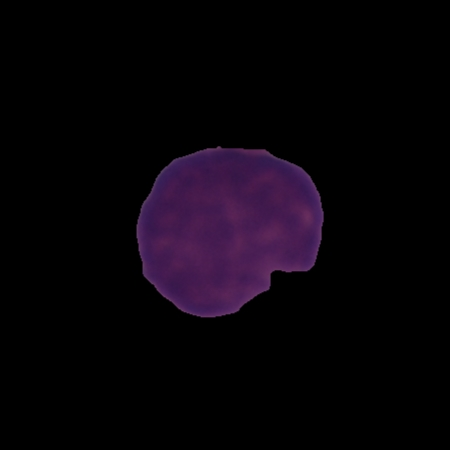HEM: (133, 143, 327, 320)
